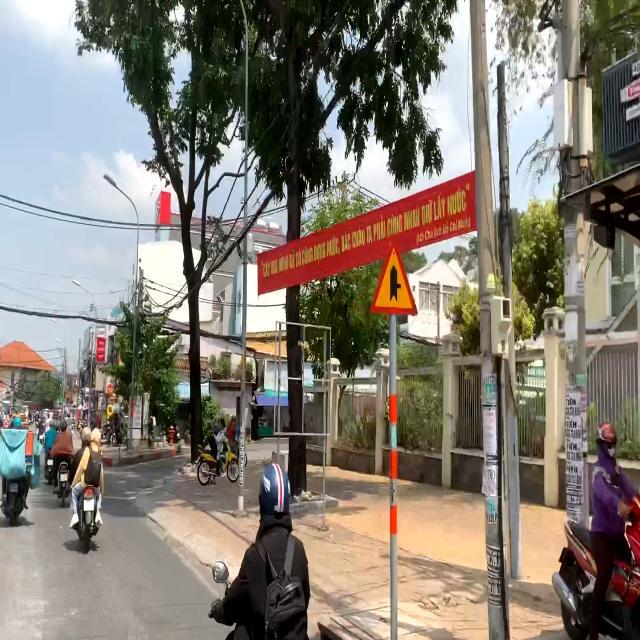W-207b: (370, 244, 420, 314)
